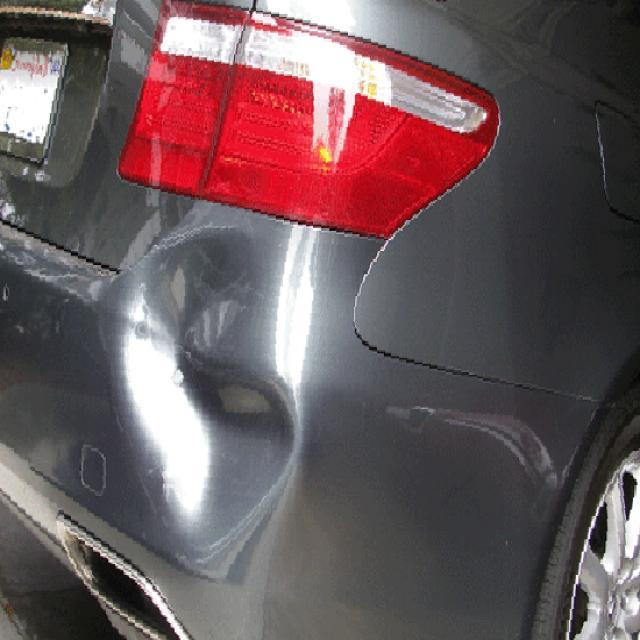dent: (98, 264, 314, 594)
